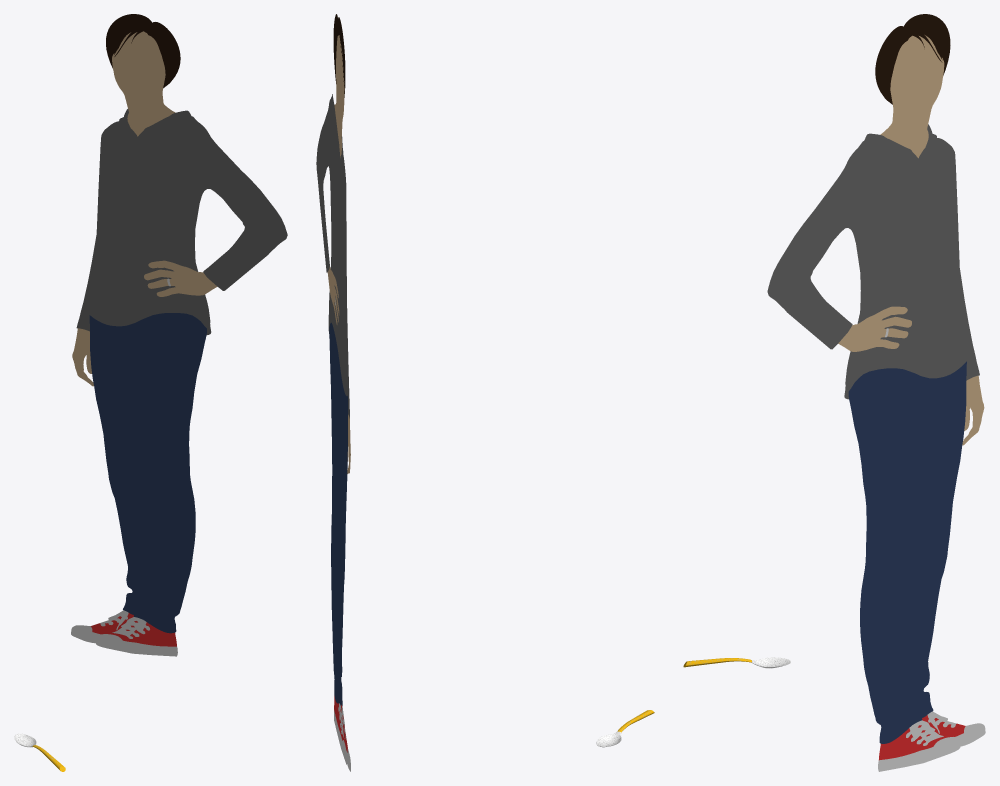
The model's file is spoon_06_origin_gt_1.dae.
3 views of the same model, side by side, from view 1: azimuth 30°, elevation 25°; view 2: azimuth 150°, elevation 25°; view 3: azimuth 270°, elevation 25° (orthographic). The views are drawn at different scales.
Parts seen in each view (by area): view 1: Stacy (×8); view 2: Stacy (×3); view 3: Stacy (×8).
Boxes of the visible parts, box(x1,y1,x2,y2) form: Stacy (×8): box(71, 14, 287, 656); Stacy (×3): box(316, 35, 349, 705); Stacy (×8): box(767, 14, 985, 771).
Size of the model in its own units: 28.78 by 23.93 by 65.72.
